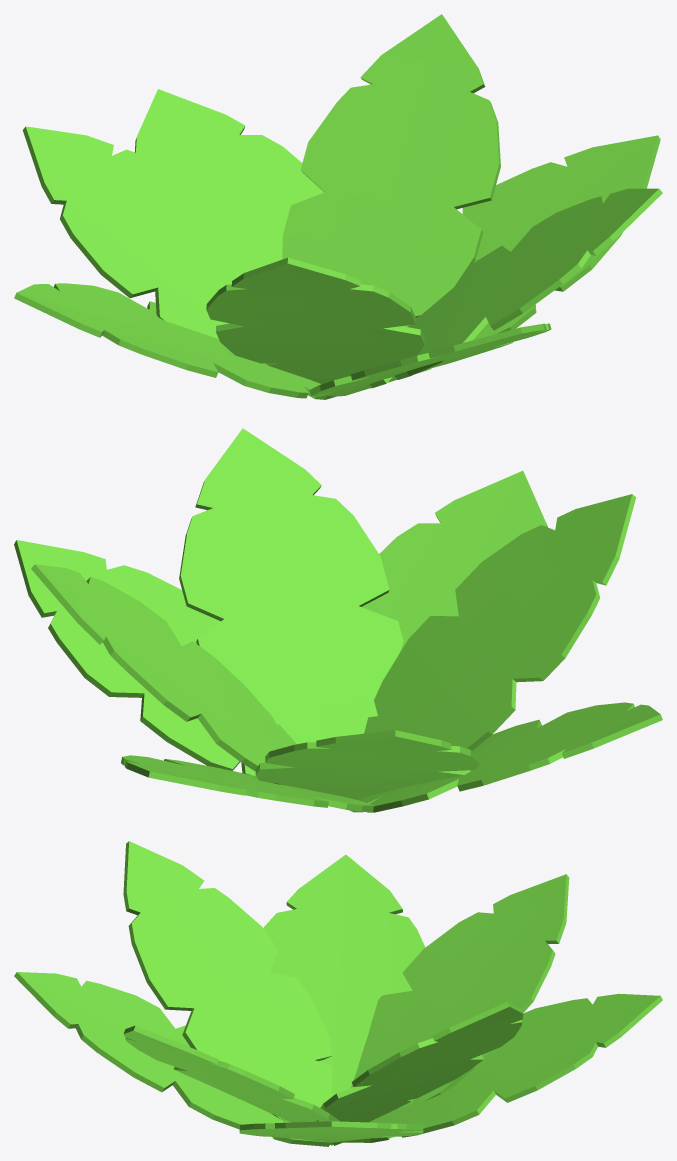
Rendered from fern.fbx.
3 renders of one model, top to bottom at view 1: azimuth 30°, elevation 25°; view 2: azimuth 150°, elevation 25°; view 3: azimuth 270°, elevation 25°, orthographic. The views are drawn at different scales.
Parts seen in each view (by area): view 1: Leaf.005, Leaf.007, Leaf.004, Leaf.006, Leaf.003, Leaf.001, Leaf, Leaf.002; view 2: Leaf.006, Leaf.004, Leaf.005, Leaf.001, Leaf.002, Leaf.007, Leaf, Leaf.003; view 3: Leaf.004, Leaf, Leaf.007, Leaf.003, Leaf.002, Leaf.005, Leaf.006, Leaf.001.
Boxes of the visible parts, bbox=[...] form: Leaf.005: bbox=[282, 14, 500, 326]; Leaf.007: bbox=[22, 126, 282, 339]; Leaf.004: bbox=[206, 257, 424, 383]; Leaf.006: bbox=[360, 188, 662, 388]; Leaf.003: bbox=[135, 89, 324, 257]; Leaf.001: bbox=[462, 135, 660, 340]; Leaf: bbox=[14, 283, 336, 399]; Leaf.002: bbox=[309, 323, 551, 396]; Leaf.006: bbox=[179, 428, 403, 744]; Leaf.004: bbox=[364, 494, 635, 750]; Leaf.005: bbox=[31, 564, 296, 784]; Leaf.001: bbox=[14, 540, 255, 775]; Leaf.002: bbox=[362, 470, 547, 652]; Leaf.007: bbox=[255, 730, 480, 799]; Leaf: bbox=[349, 702, 662, 812]; Leaf.003: bbox=[121, 755, 373, 812]; Leaf.004: bbox=[123, 841, 332, 1122]; Leaf: bbox=[263, 854, 425, 1145]; Leaf.007: bbox=[332, 874, 569, 1145]; Leaf.003: bbox=[334, 993, 662, 1142]; Leaf.002: bbox=[14, 972, 330, 1146]; Leaf.005: bbox=[316, 1002, 523, 1122]; Leaf.006: bbox=[123, 1025, 340, 1141]; Leaf.001: bbox=[239, 1121, 423, 1142].
Size of the model in its own units: 35.7 by 14 by 35.38.
